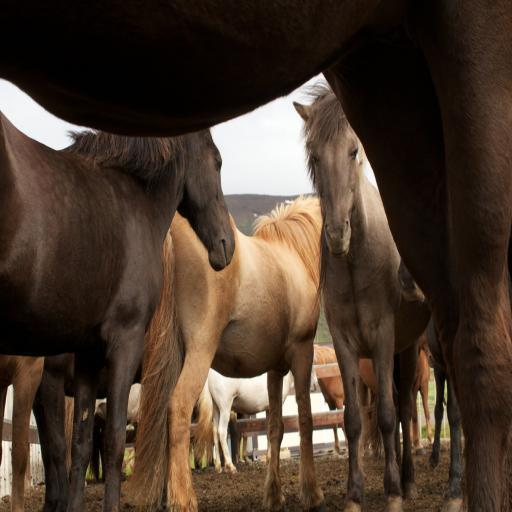horse: (0, 2, 512, 512)
